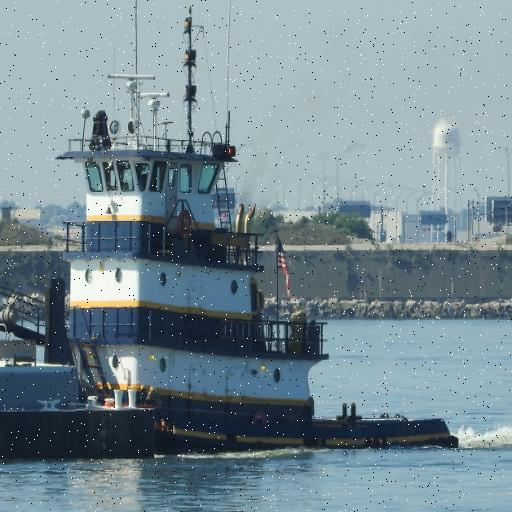tugboat: (1, 67, 464, 461)
